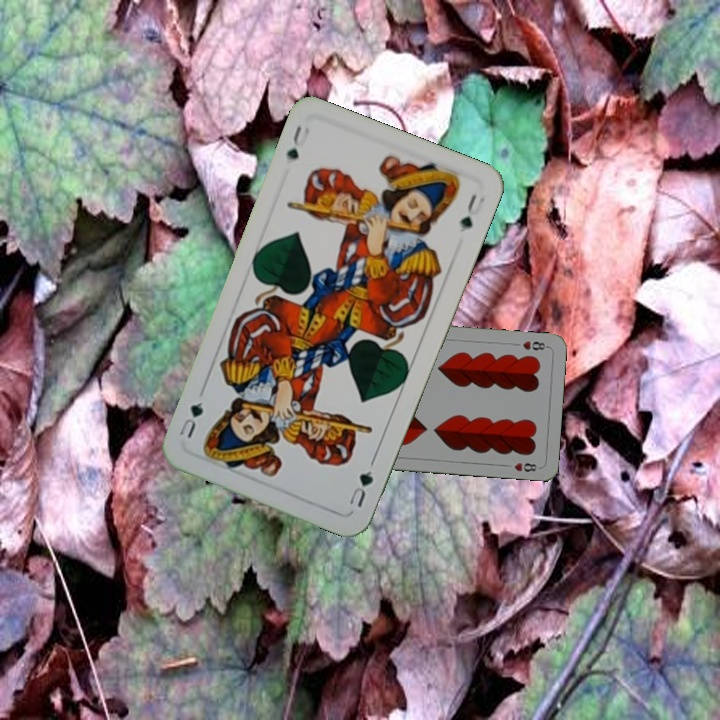GU: (345, 457, 377, 510), (282, 121, 312, 162)
H8: (518, 337, 551, 353)
